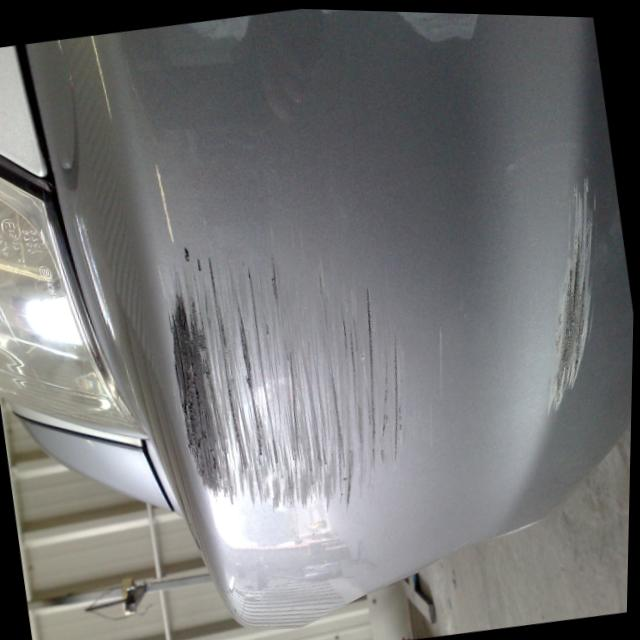Scratch: (173, 273, 396, 504)
